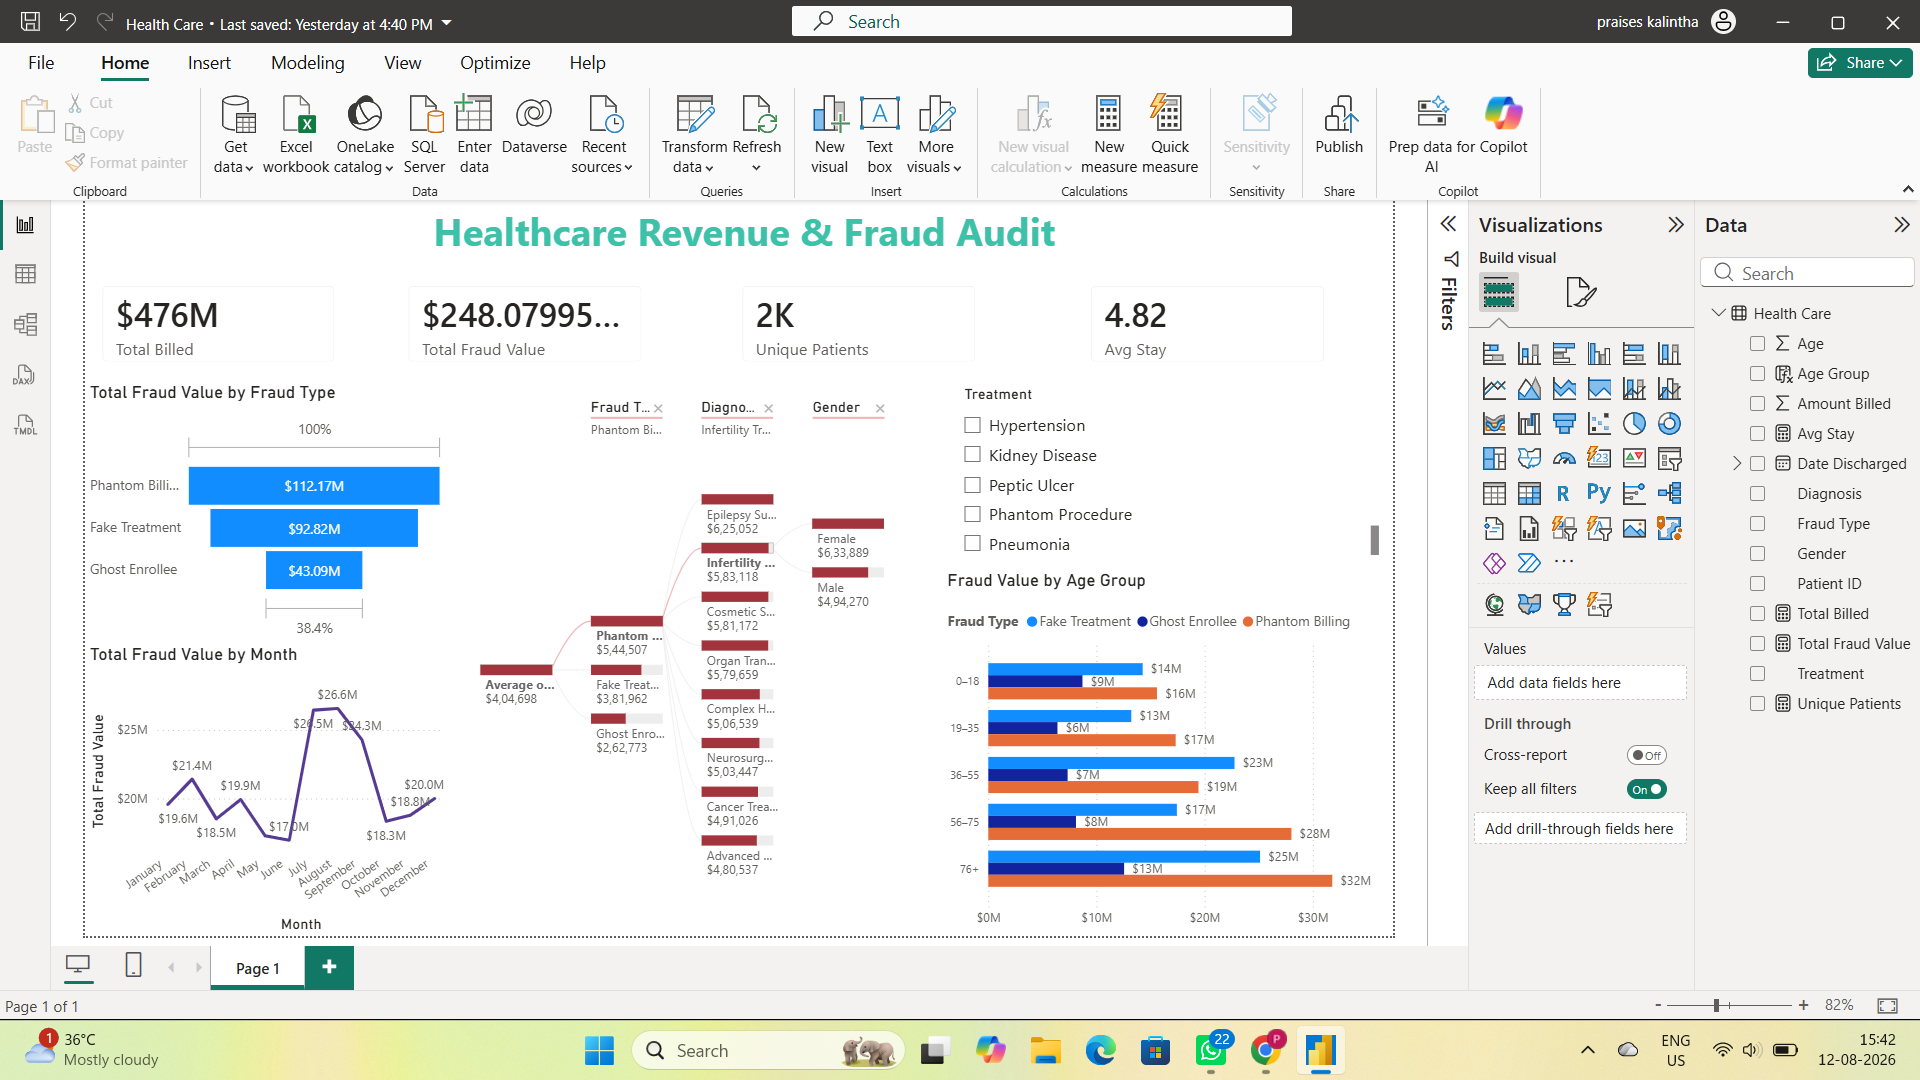

Layout of this report page (visuals, bound fields, positions):
{"tool":"powerbi","page":{"name":"Page 1","canvas":[1280,720],"ordinal":0},"visuals":[{"type":"textbox","box":[9.6,0,1270.7,76.8],"z":0},{"type":"cardVisual","fields":{"Data":["Health Care.Total Billed"]},"box":[0,67.3,222.6,108.8],"z":1000},{"type":"cardVisual","fields":{"Data":["Health Care.Total Fraud Value"]},"box":[315.5,67.3,261.7,108.8],"z":2000},{"type":"cardVisual","fields":{"Data":["Health Care.Unique Patients"]},"box":[668.9,67.3,261.7,100.3],"z":3000},{"type":"cardVisual","fields":{"Data":["Health Care.Avg Stay (Days)"]},"box":[1018.6,67.3,262.1,108.4],"z":4000},{"type":"lineChart","fields":{"Category":["Health Care.Date Discharged.Variation.Date Hierarchy.Month"],"Y":["Health Care.Total Fraud Value"]},"box":[0,434.1,356.8,286.8],"z":6000},{"type":"clusteredBarChart","title":"Fraud Value by Age Group","fields":{"Category":["Health Care.Age Group"],"Series":["Health Care.Fraud Type"],"Y":["Health Care.Total Fraud Value"]},"box":[838.9,362,441.4,358.3],"z":7000},{"type":"decompositionTreeVisual","fields":{"Analyze":["Sum(Health Care.Amount Billed)"],"ExplainBy":["Health Care.Fraud Type","Health Care.Diagnosis","Health Care.Gender"]},"box":[357.1,177.3,481.8,542.9],"z":9000},{"type":"funnel","fields":{"Category":["Health Care.Fraud Type"],"Y":["Health Care.Total Fraud Value"]},"box":[0,177.3,357.1,256.8],"z":9001},{"type":"slicer","fields":{"Values":["Health Care.Treatment"]},"box":[838.9,176.1,441.4,185.9],"z":9002}]}

Visuals, with their boxes on the page's 1280x720 design canvas (x1, y1, x2, y2). These are canvas units, not pixel positions in the 1920x1080 screenshot, which may show the page scaled, cropped or inside an application window:
textbox: <bbox>10, 0, 1280, 77</bbox>
cardVisual - Health Care.Total Billed: <bbox>0, 67, 223, 176</bbox>
cardVisual - Health Care.Total Fraud Value: <bbox>316, 67, 577, 176</bbox>
cardVisual - Health Care.Unique Patients: <bbox>669, 67, 931, 168</bbox>
cardVisual - Health Care.Avg Stay (Days): <bbox>1019, 67, 1281, 176</bbox>
lineChart - Health Care.Date Discharged.Variation.Date Hierarchy.Month x Health Care.Total Fraud Value: <bbox>0, 434, 357, 721</bbox>
"Fraud Value by Age Group" clusteredBarChart: <bbox>839, 362, 1280, 720</bbox>
decompositionTreeVisual - Sum(Health Care.Amount Billed) x Health Care.Fraud Type: <bbox>357, 177, 839, 720</bbox>
funnel - Health Care.Fraud Type x Health Care.Total Fraud Value: <bbox>0, 177, 357, 434</bbox>
slicer - Health Care.Treatment: <bbox>839, 176, 1280, 362</bbox>
